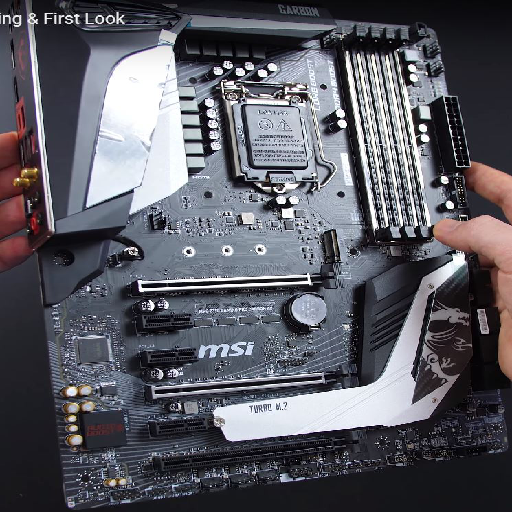CPU: (216, 81, 322, 202)
GPU: (131, 265, 341, 298), (145, 368, 351, 400)
MOTHERBOARD: (37, 30, 507, 507)
RAM: (323, 21, 430, 244)
SSD: (319, 228, 344, 267)
